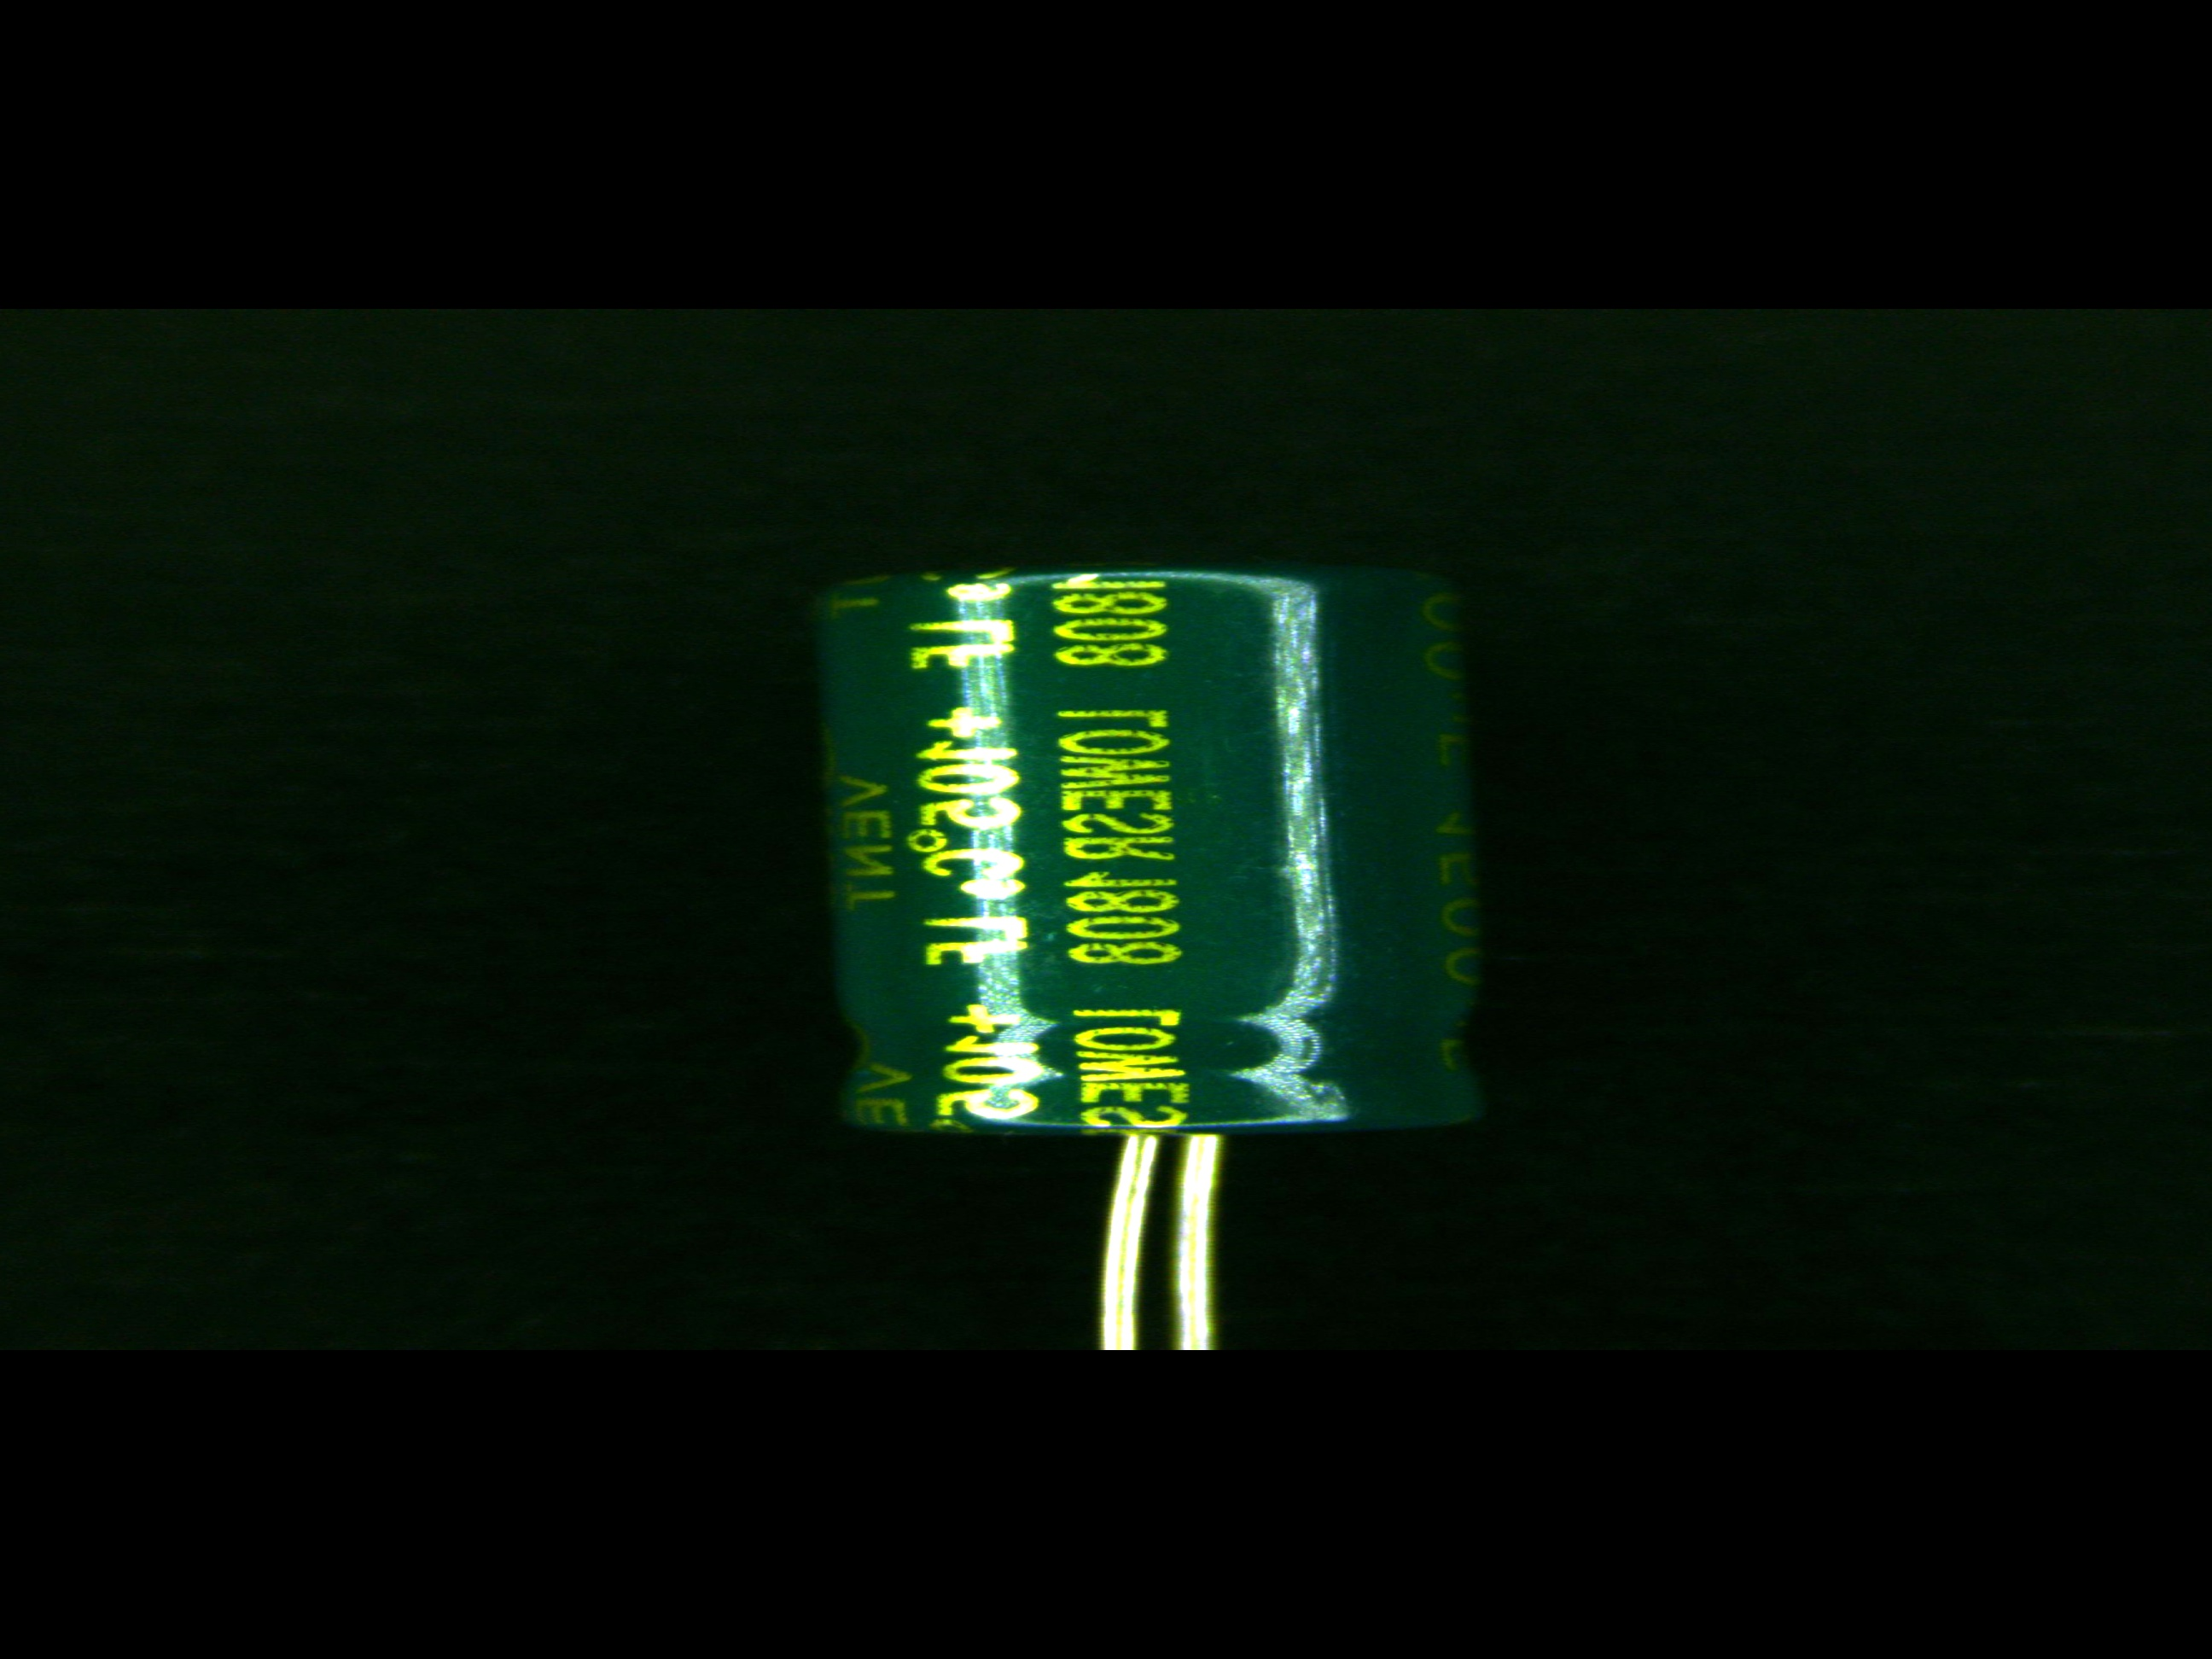c1: (806, 568, 1500, 1162)
